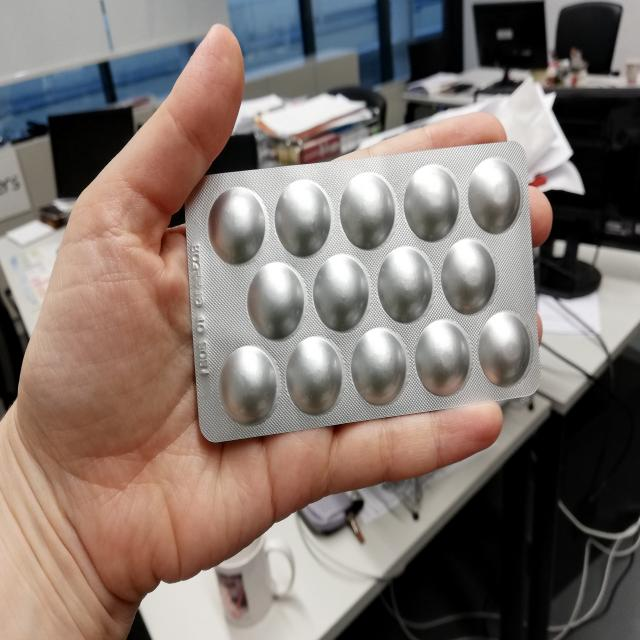Pill: (211, 344, 279, 432), (414, 320, 479, 402), (274, 178, 338, 261), (375, 246, 443, 324), (199, 187, 268, 263), (307, 254, 374, 332), (243, 261, 307, 341), (339, 168, 397, 252), (404, 161, 463, 243), (352, 326, 410, 409), (468, 152, 522, 237), (289, 336, 342, 420), (440, 241, 500, 315), (476, 307, 530, 389)
